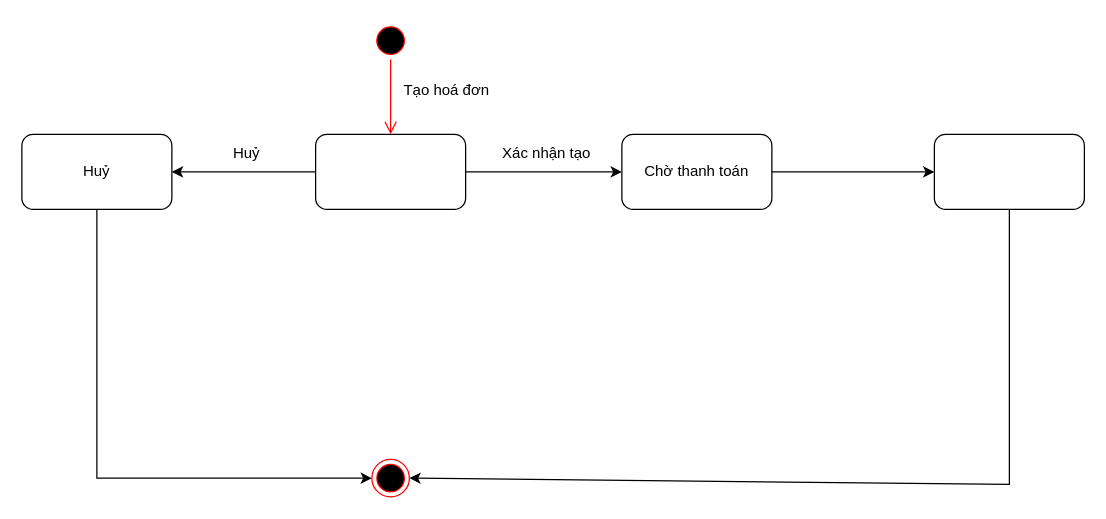
The diagram is 1106 pixels wide and 519 high, and some of its shapes have lost their labels. The centre of each missing label's shape, as x and y in pixels:
"Chờ xác nhận" goes at point 390,171.
"Đã thanh toán" goes at point 1008,171.
